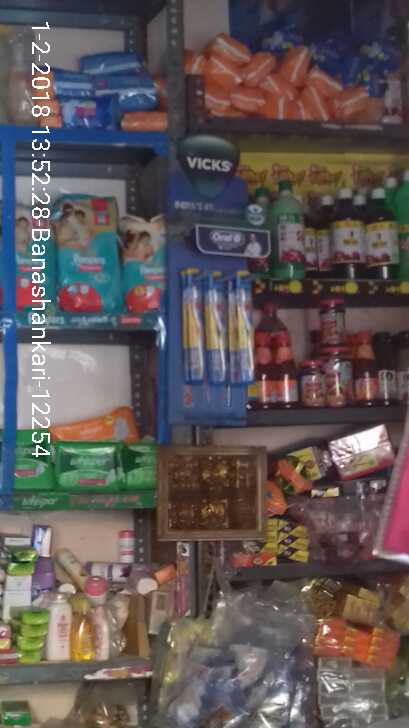pharmacy: (54, 194, 120, 318), (118, 214, 168, 317), (55, 441, 120, 489), (229, 271, 256, 381), (204, 270, 229, 386), (180, 268, 204, 382), (120, 443, 157, 489)
